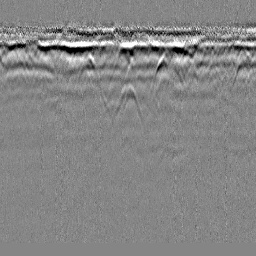cavity: (112, 82, 144, 129)
